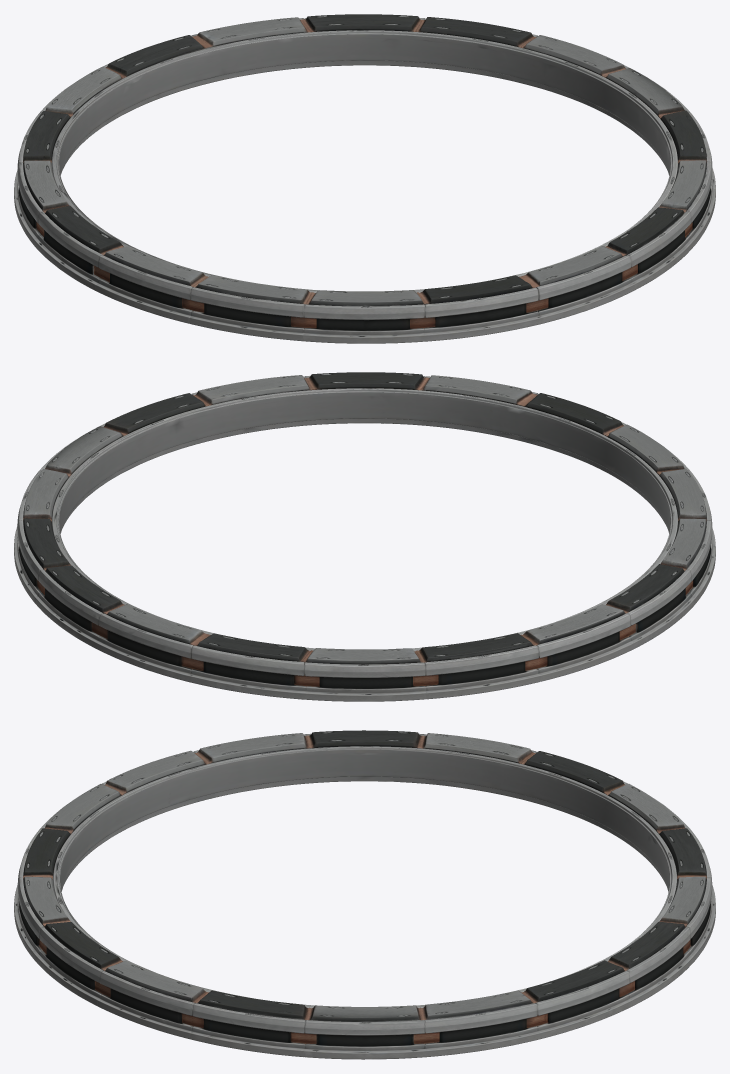
Rendered from reactor_crown_pbr4k.glb.
3 views of the same model, one above another, from view 1: azimuth 30°, elevation 25°; view 2: azimuth 150°, elevation 25°; view 3: azimuth 270°, elevation 25° (orthographic).
Visible parts, largest first — view 1: ReactorCrownMeasuredFullDetail; view 2: ReactorCrownMeasuredFullDetail; view 3: ReactorCrownMeasuredFullDetail.
Boxes of the visible parts, left/top/right/bottom form: ReactorCrownMeasuredFullDetail: left=14, top=14, right=715, bottom=343; ReactorCrownMeasuredFullDetail: left=14, top=372, right=715, bottom=701; ReactorCrownMeasuredFullDetail: left=14, top=730, right=715, bottom=1059.
Size of the model in its own units: 9.5 by 0.6 by 9.5.
Materials: 1 (1 with a texture image).
